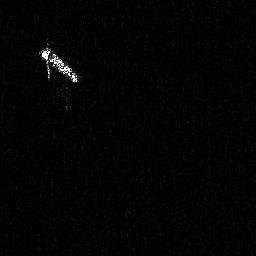ship: (36, 41, 81, 85)
